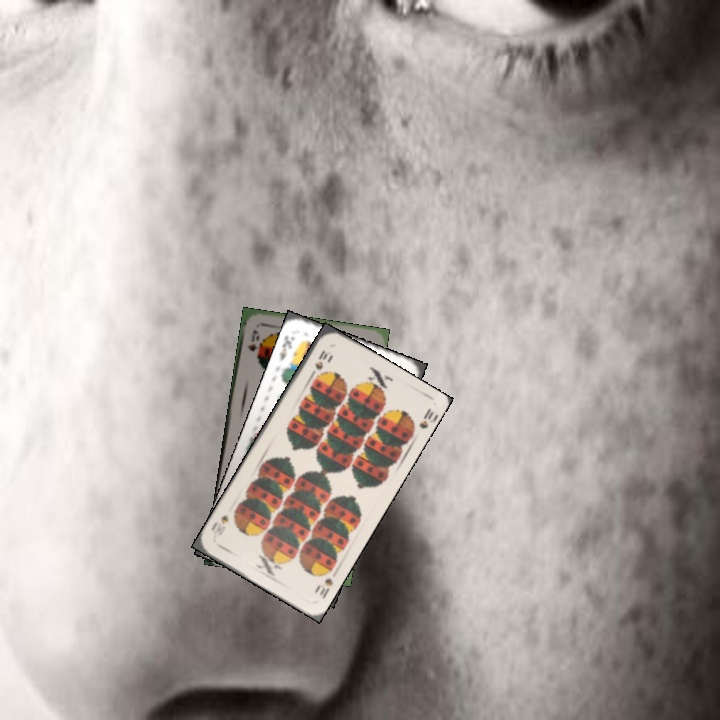EK: (275, 332, 297, 363)
S10: (306, 346, 333, 380), (310, 574, 336, 601)
SO: (244, 326, 262, 354)
